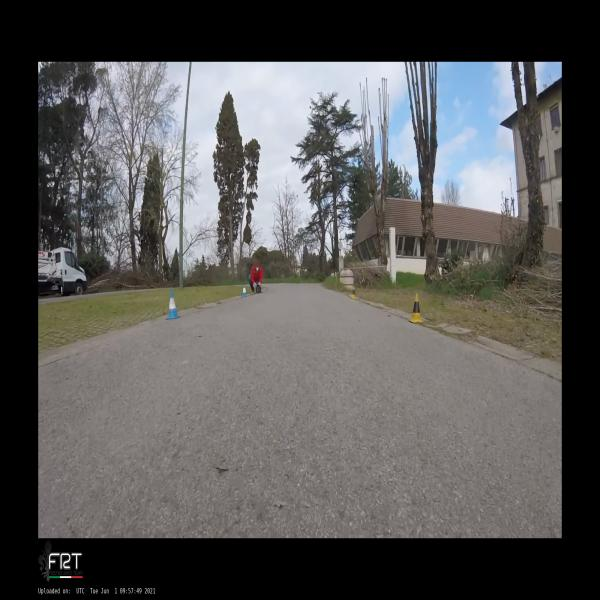blue_cone: (165, 292, 181, 319), (241, 284, 247, 297)
yellow_cone: (408, 293, 424, 323), (351, 287, 356, 299)
